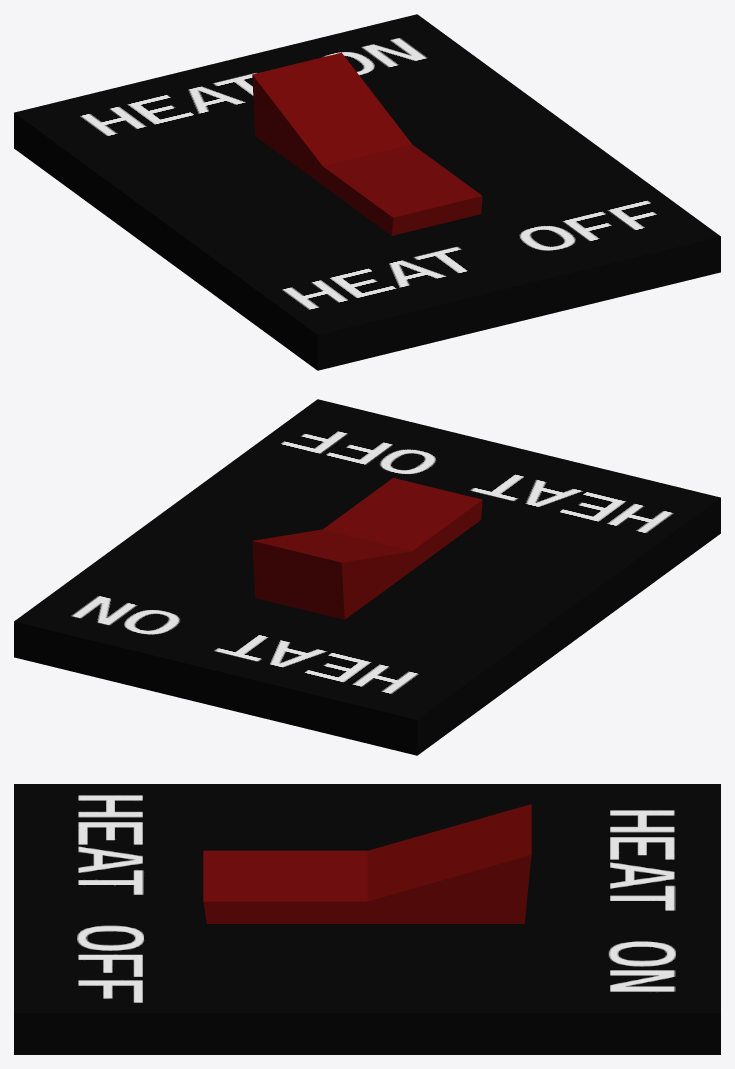
Rendered from Heatswitch.fbx.
The picture shows the model from 3 angles, top to bottom: view 1: azimuth 30°, elevation 25°; view 2: azimuth 150°, elevation 25°; view 3: azimuth 270°, elevation 25°; orthographic projection. The views are drawn at different scales.
Visible parts, largest first — view 1: pPlane1, pCube1; view 2: pPlane1, pCube1; view 3: pPlane1, pCube1.
Part boxes in pixels (bbox=[...]): pPlane1: bbox=[14, 14, 720, 370]; pCube1: bbox=[252, 52, 482, 235]; pPlane1: bbox=[14, 399, 720, 755]; pCube1: bbox=[252, 478, 482, 619]; pPlane1: bbox=[14, 784, 720, 1054]; pCube1: bbox=[203, 804, 531, 923].
Bounding box in the file's own units: 0.7667 × 0.2103 × 1.
